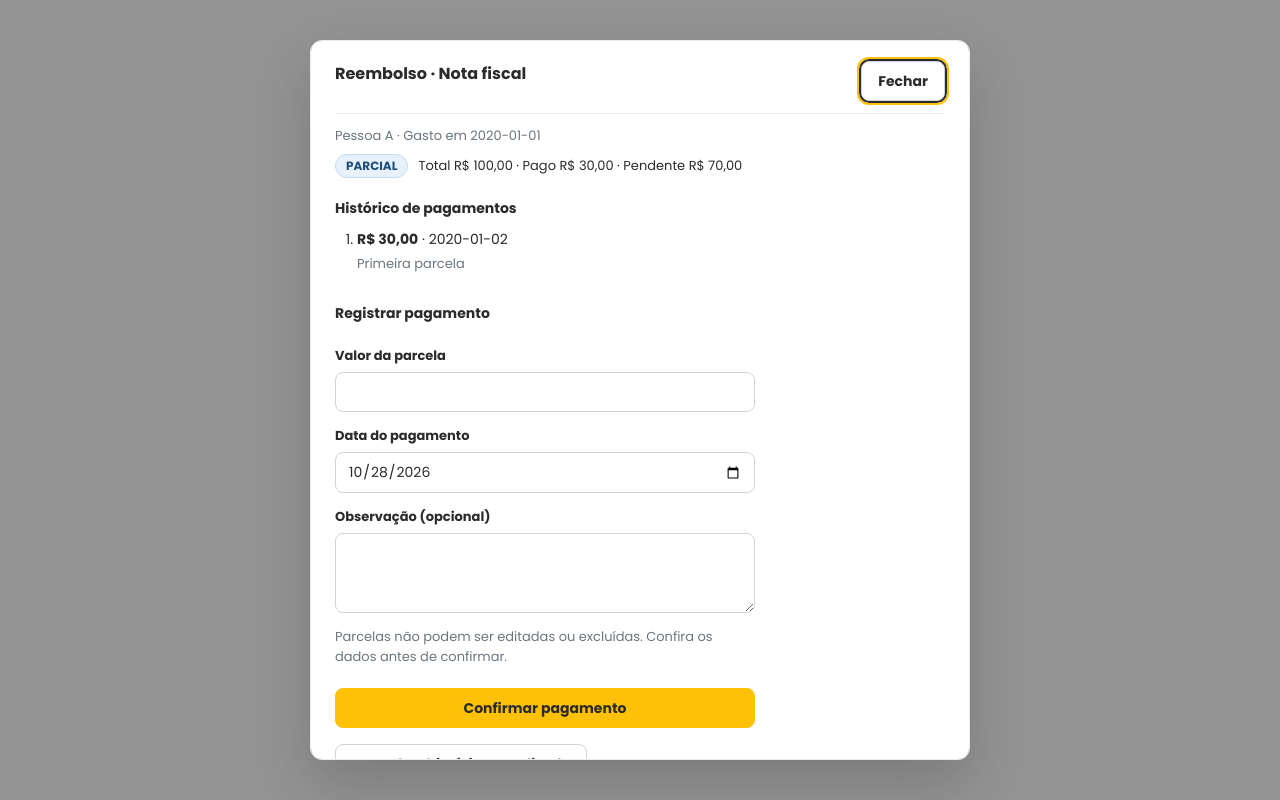
Test: parcelas de reembolso › exige consultar histórico após resultado desconhecido e não reenvia
Type "10" into the field labelled "Valor da parcela" at x=545, y=392, box [335,372,755,412]
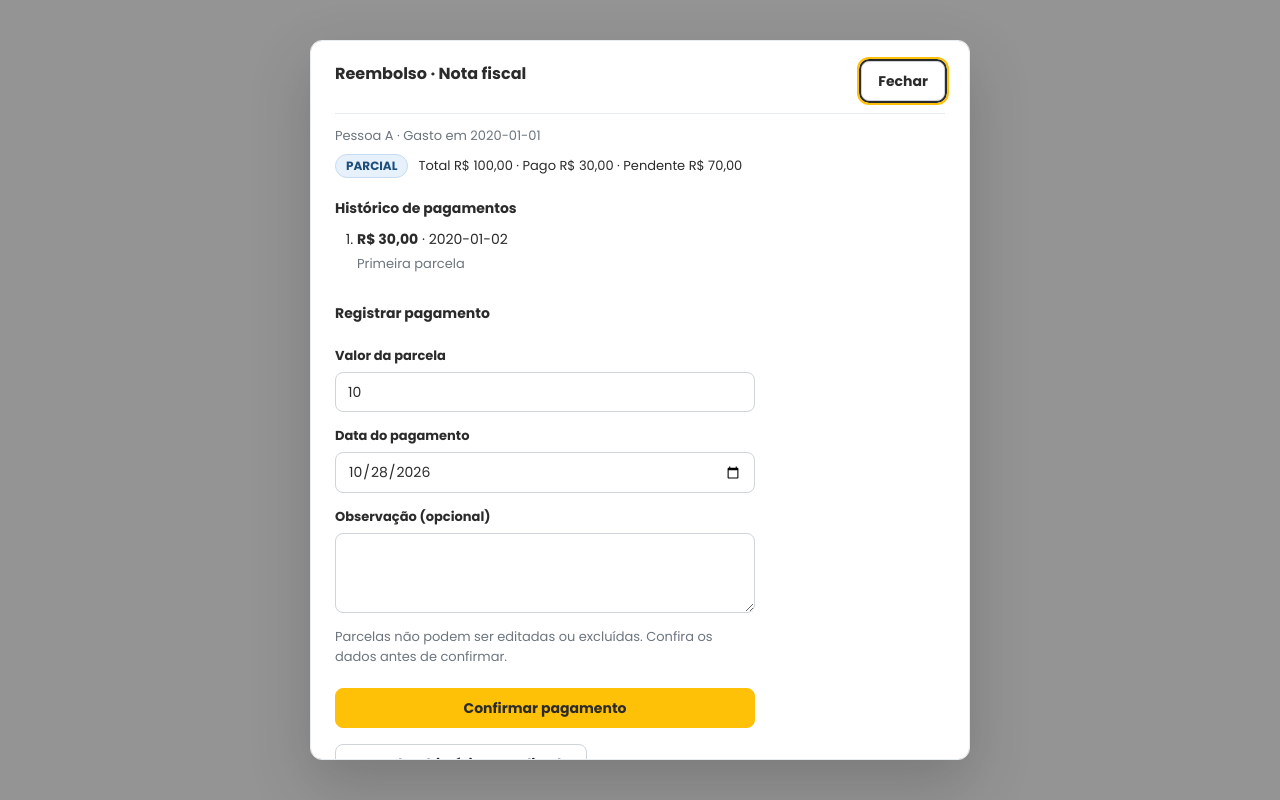
Click the button "Confirmar pagamento" at x=545, y=708, box [335,688,755,728]
(page scrolled)
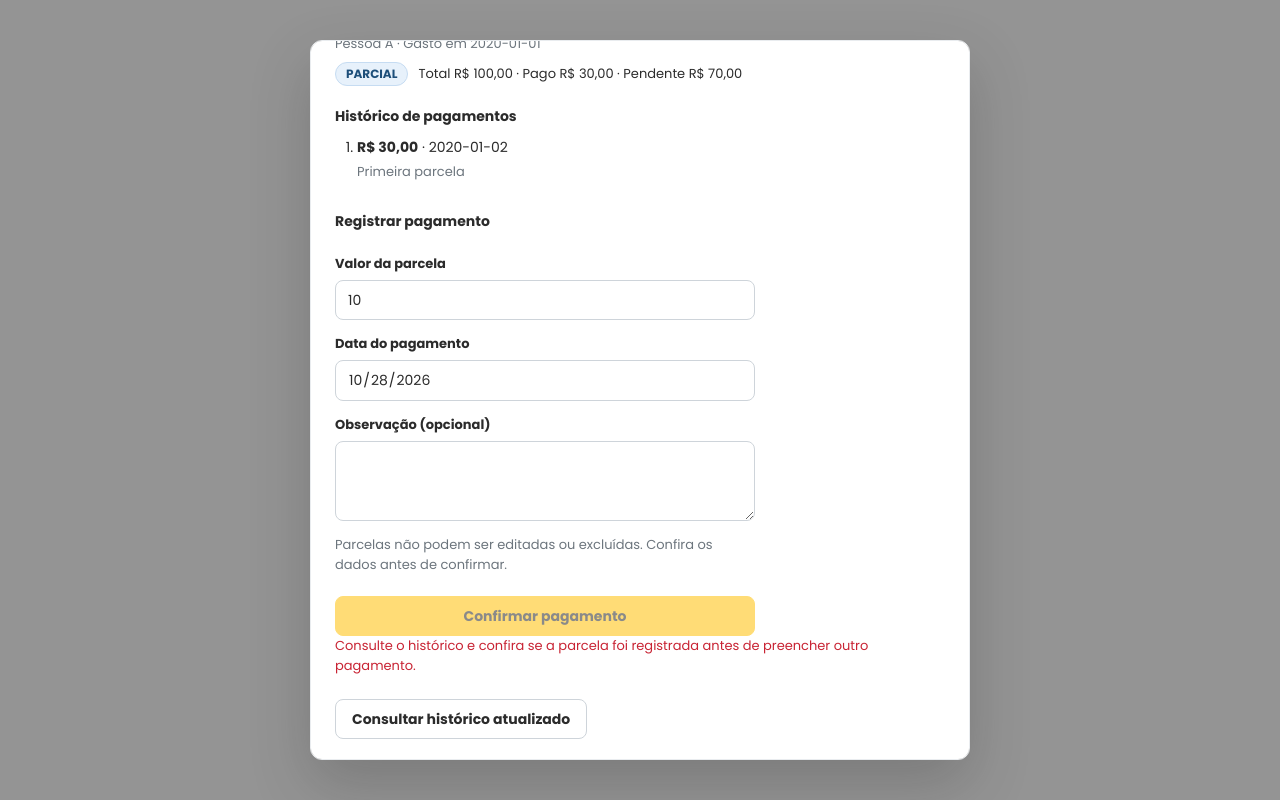
Expected: the button "Confirmar pagamento" is disabled, [335,596,755,636]
Expected: the message shows "confira", [335,636,868,674]
Click the button "Consultar histórico atualizado" at x=461, y=719, box [335,699,587,739]
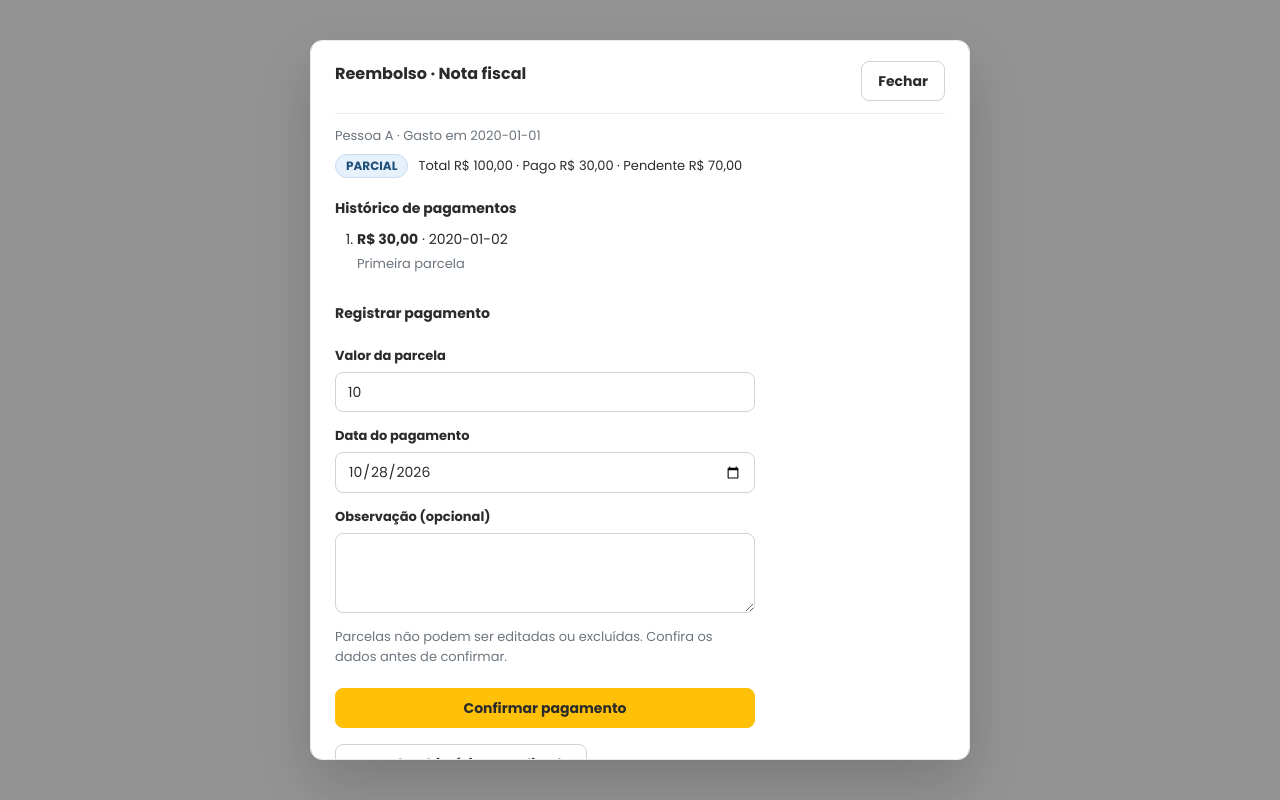
Expected: the button "Confirmar pagamento" is enabled, [335,688,755,728]
